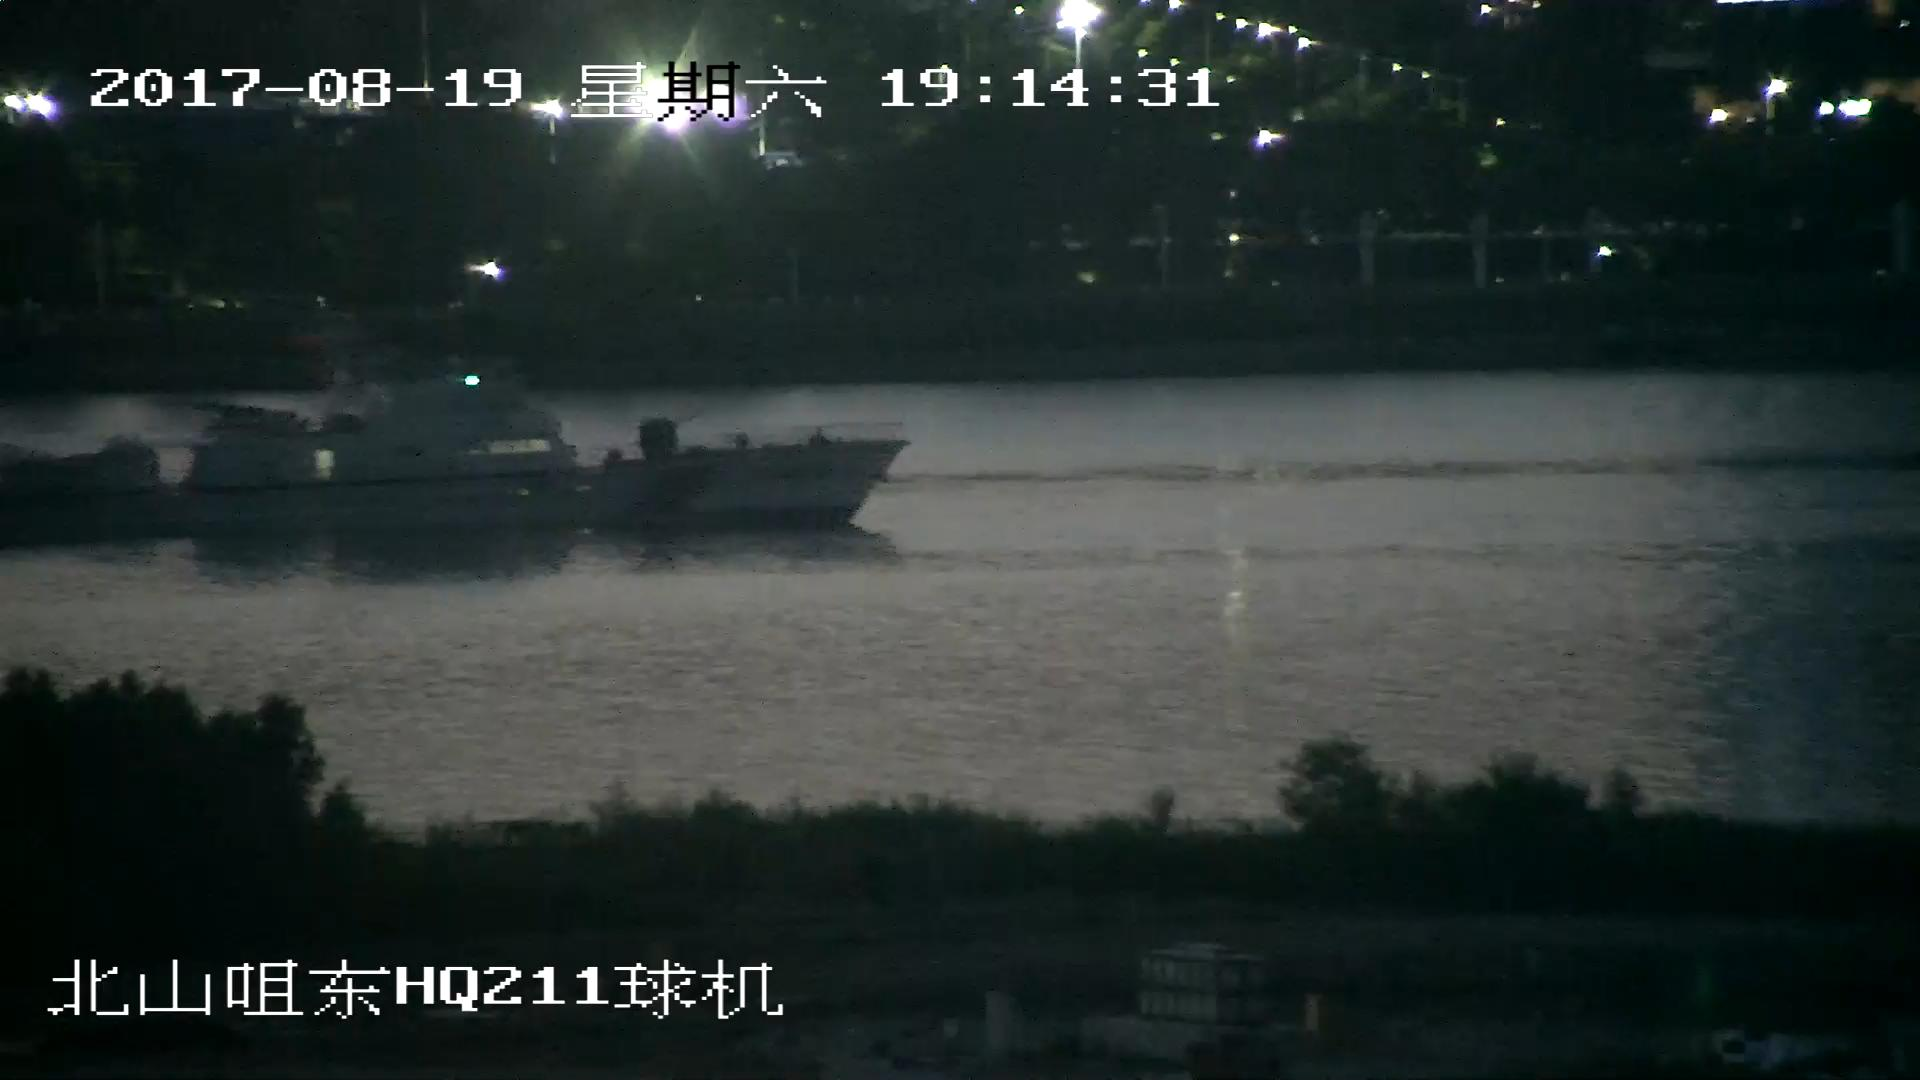passenger ship: (1, 354, 914, 536)
